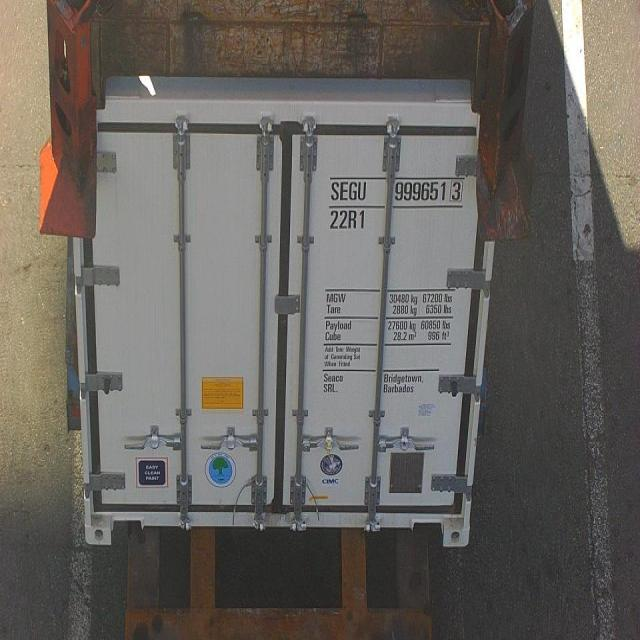ISO: (331, 208, 364, 233)
container_number: (329, 183, 466, 206)
